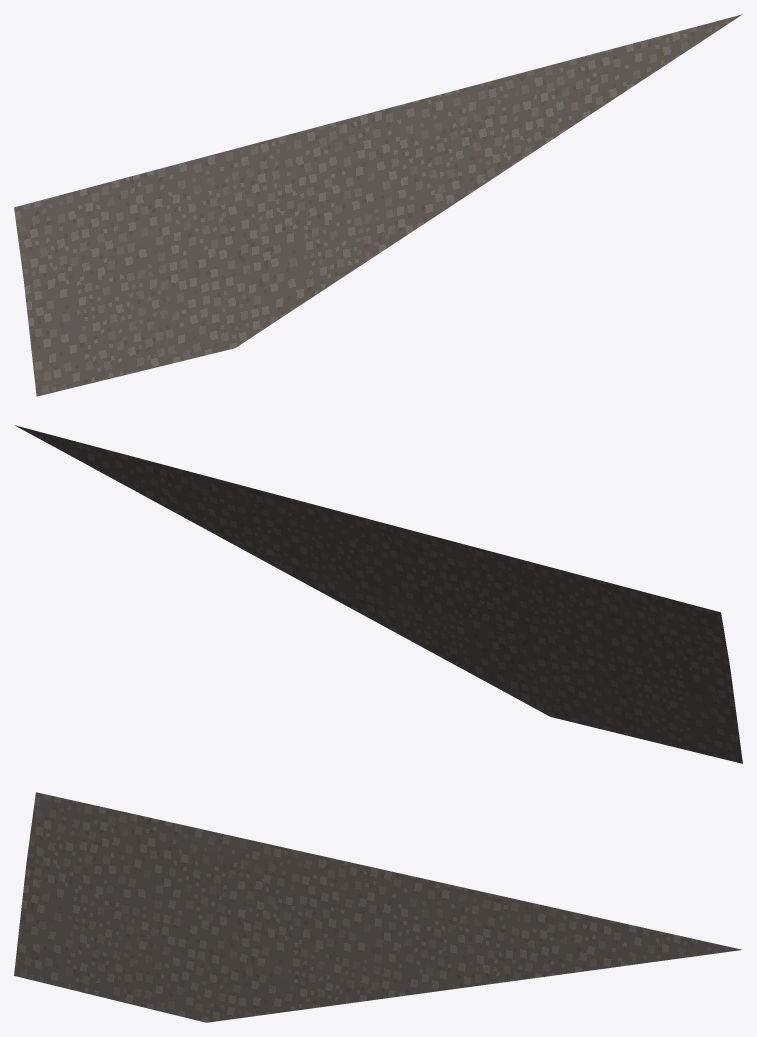
The model's file is kd_stage_135c43_4_143_bounded_piece_5.glb.
3 views of the same model, one above another, from view 1: azimuth 30°, elevation 25°; view 2: azimuth 150°, elevation 25°; view 3: azimuth 330°, elevation 25° (orthographic). The views are drawn at different scales.
Parts seen in each view (by area): view 1: kd_stage_135c43_4_143_bounded_piece_5; view 2: kd_stage_135c43_4_143_bounded_piece_5; view 3: kd_stage_135c43_4_143_bounded_piece_5.
Boxes of the visible parts, bbox=[...] form: kd_stage_135c43_4_143_bounded_piece_5: bbox=[14, 14, 742, 396]; kd_stage_135c43_4_143_bounded_piece_5: bbox=[15, 425, 742, 763]; kd_stage_135c43_4_143_bounded_piece_5: bbox=[14, 792, 742, 1022].
Size of the model in its own units: 0.7786 by 0.1919 by 0.0418.
1 material, 1 textured.
